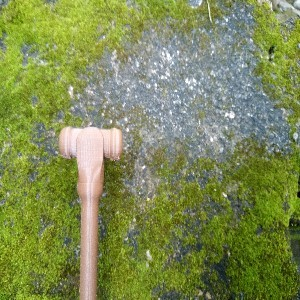palu: (58, 126, 121, 300)
